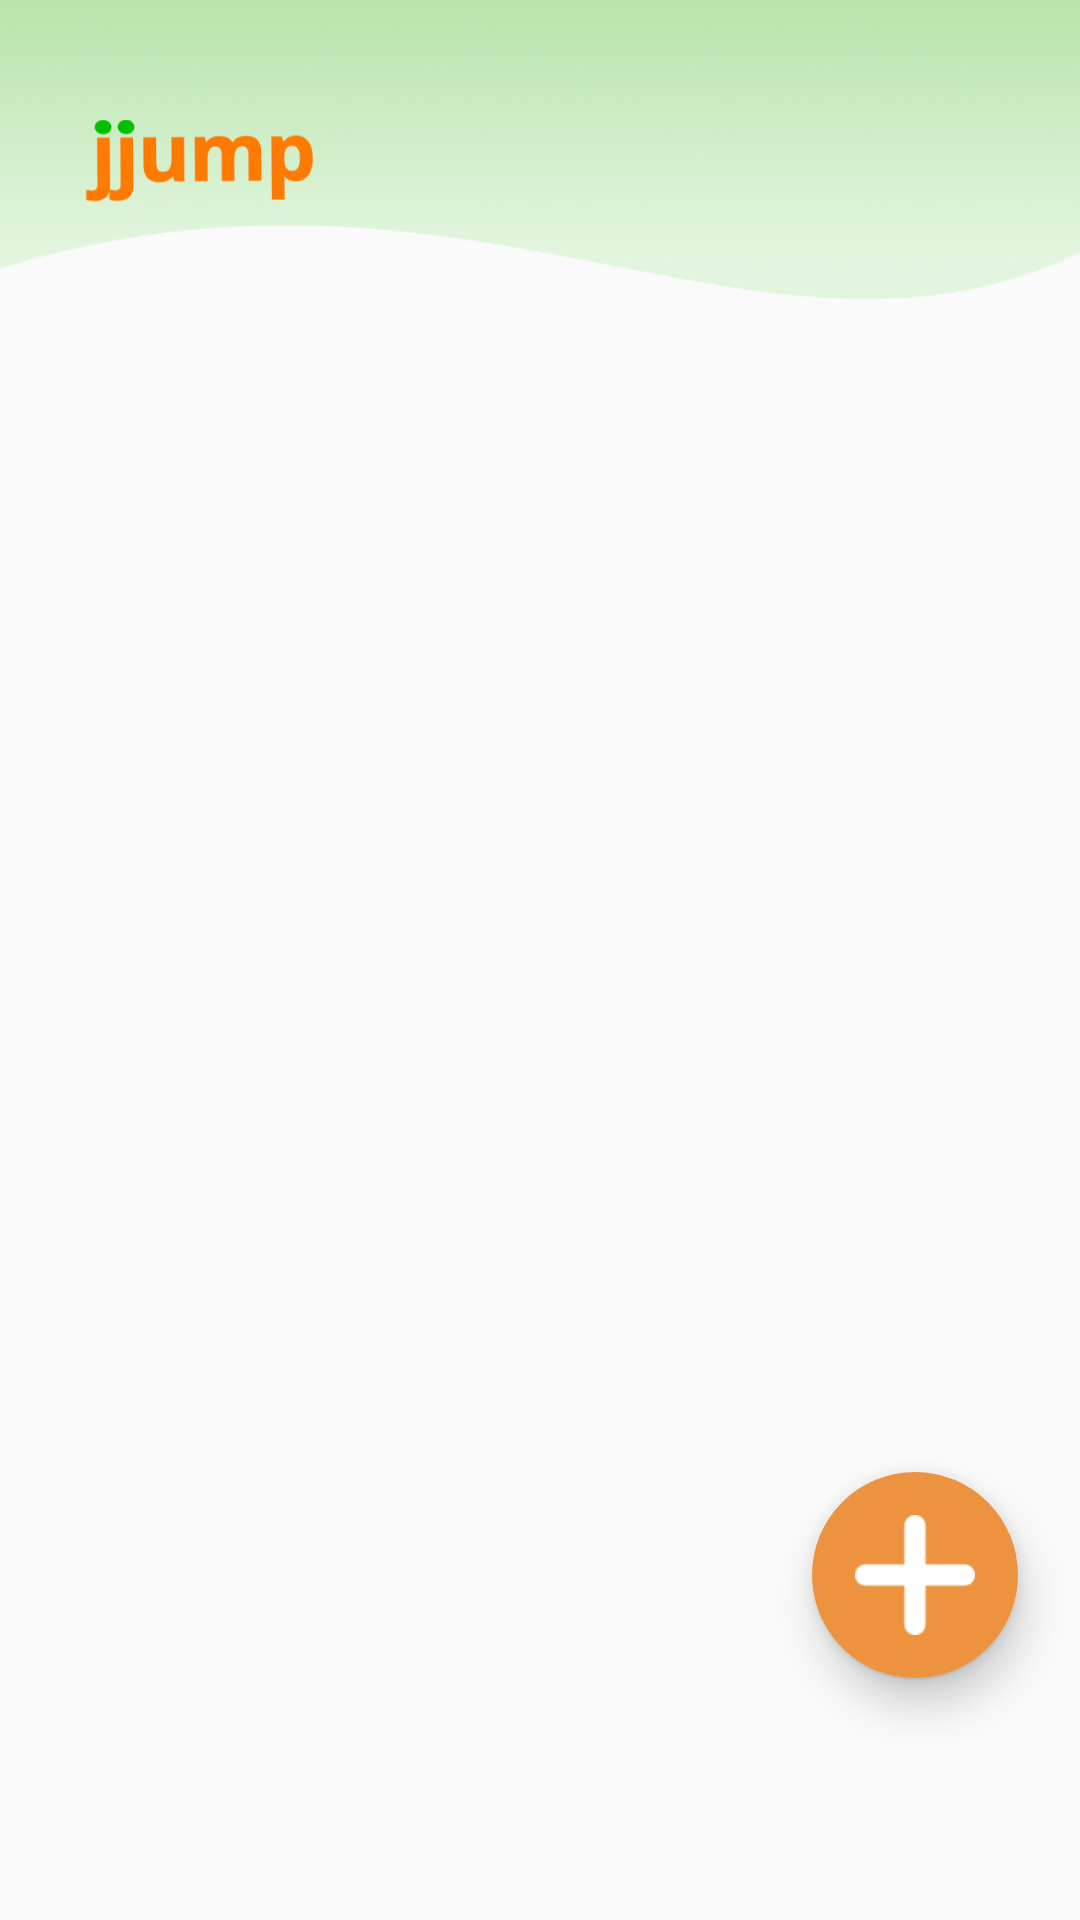

Icon click points for this 1080*1920 phone screenshot, format [x,y]:
plus: [916,1576]
